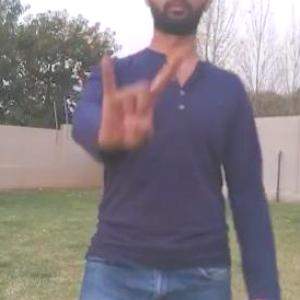takeoff-hand: (82, 38, 190, 154)
